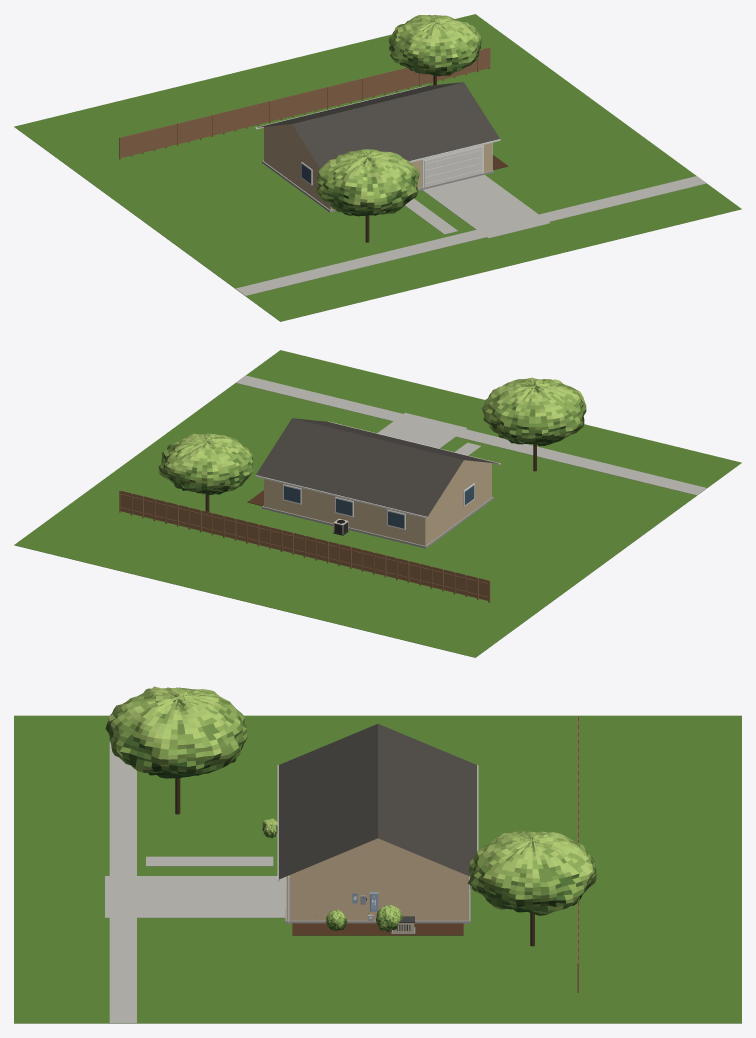
The model's file is home_03_pre_install.obj.
3 renders of one model, top to bottom at view 1: azimuth 30°, elevation 25°; view 2: azimuth 150°, elevation 25°; view 3: azimuth 270°, elevation 25°, orthographic. The views are drawn at different scales.
Visible parts, largest first — view 1: yard, house, tree_2, tree_1; view 2: yard, house, tree_2, tree_1; view 3: yard, house, tree_2, tree_1, mulch_bed_side, bush_dome_2.
Boxes of the visible parts, x1,y1,x2,y2 form: yard: [14, 14, 741, 321]; house: [255, 82, 500, 212]; tree_2: [315, 149, 419, 242]; tree_1: [388, 15, 482, 85]; yard: [14, 350, 741, 657]; house: [255, 418, 500, 548]; tree_2: [481, 377, 586, 471]; tree_1: [158, 433, 253, 511]; yard: [14, 715, 741, 1023]; house: [277, 724, 478, 923]; tree_2: [105, 686, 247, 814]; tree_1: [467, 830, 596, 946]; mulch_bed_side: [292, 923, 463, 935]; bush_dome_2: [376, 904, 402, 931].
Size of the model in its own units: 40 by 7.13 by 40.
